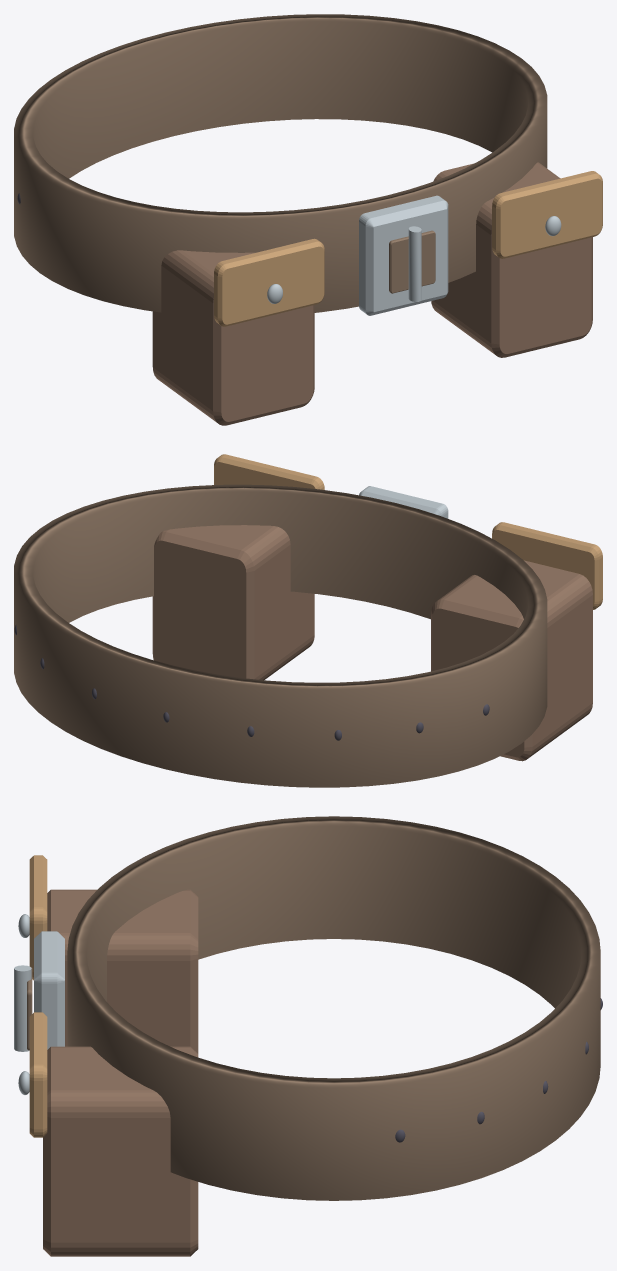
The model's file is utility_belt.glb.
The picture shows the model from 3 angles, top to bottom: view 1: azimuth 30°, elevation 25°; view 2: azimuth 150°, elevation 25°; view 3: azimuth 270°, elevation 25°; orthographic projection. The views are drawn at different scales.
Bounding box in the file's own units: 21 × 7.33 × 19.23.
